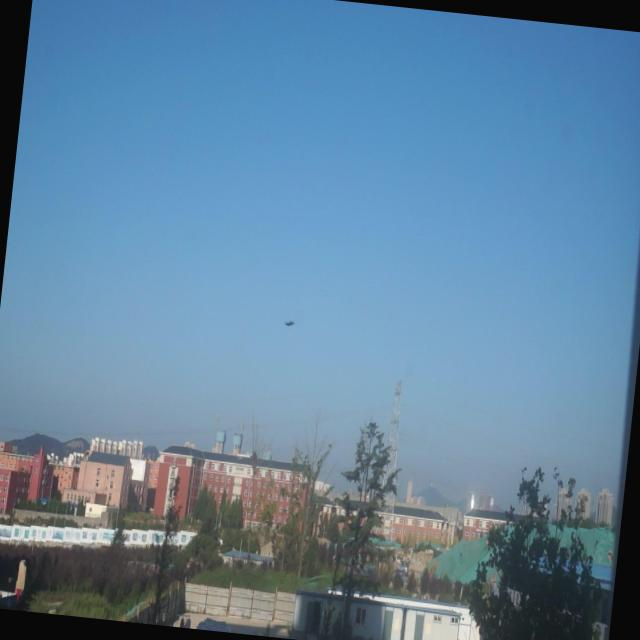drone: (281, 316, 297, 334)
